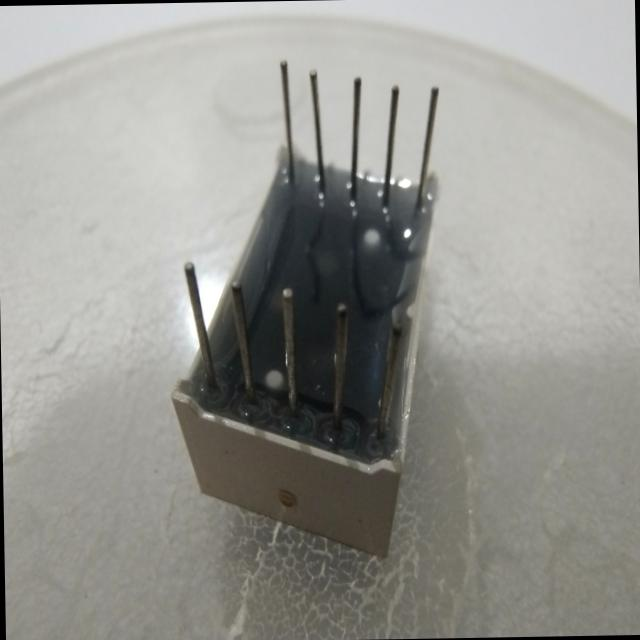7_segments: (158, 35, 472, 588)
